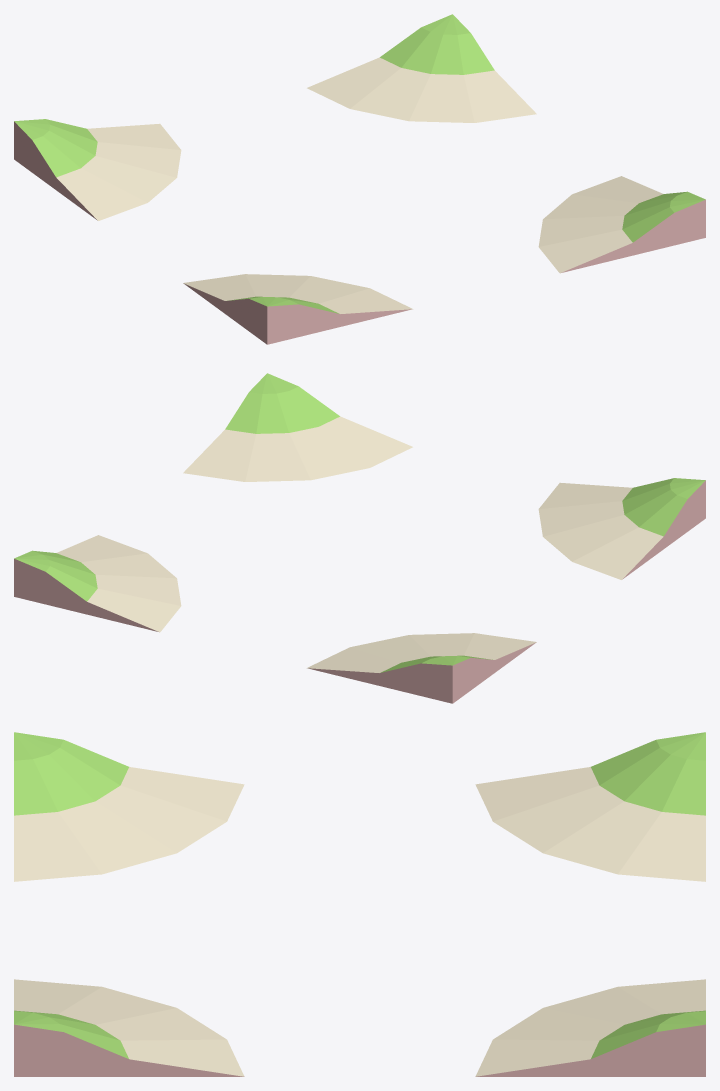
Rendered from Path_Crossway_Narrow.glb.
3 renders of one model, top to bottom at view 1: azimuth 30°, elevation 25°; view 2: azimuth 150°, elevation 25°; view 3: azimuth 270°, elevation 25°, orthographic. The views are drawn at different scales.
Visible parts, largest first — view 1: Path_Terrain_Basic_Curve_Outer_1x1 (×4); view 2: Path_Terrain_Basic_Curve_Outer_1x1 (×4); view 3: Path_Terrain_Basic_Curve_Outer_1x1 (×4).
Boxes of the visible parts, x1,y1,x2,y2 form: Path_Terrain_Basic_Curve_Outer_1x1 (×4): [14, 14, 705, 344]; Path_Terrain_Basic_Curve_Outer_1x1 (×4): [14, 373, 705, 703]; Path_Terrain_Basic_Curve_Outer_1x1 (×4): [14, 732, 705, 1076].
Size of the model in its own units: 300 by 25 by 300.
